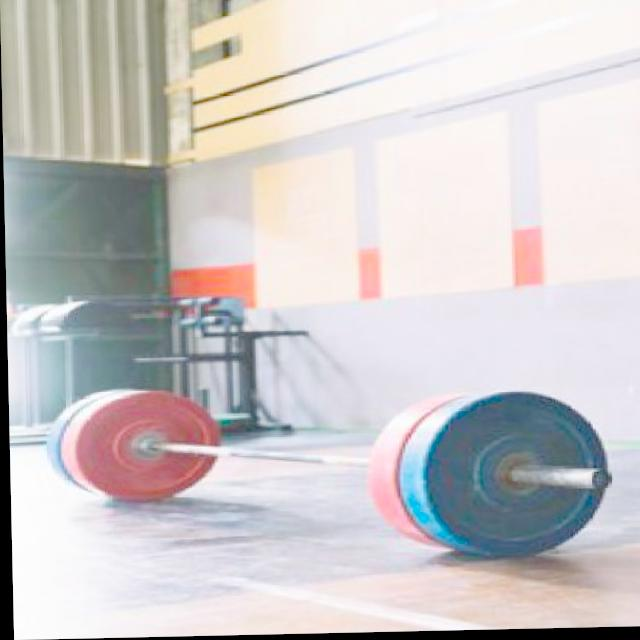barbell: (407, 384, 616, 570)
